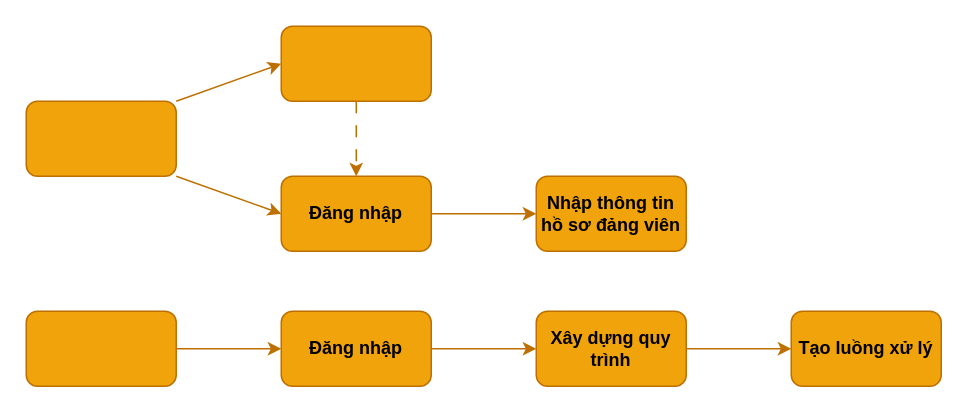
The diagram is 968 pixels wide and 413 high, and some of its shapes have lost their labels. Here are the shapes that lost their labels. From the top down, the centre of each, then its label:
[355,63]: Đăng ký
[100,138]: Người dùng
[100,348]: Quản trị viên
